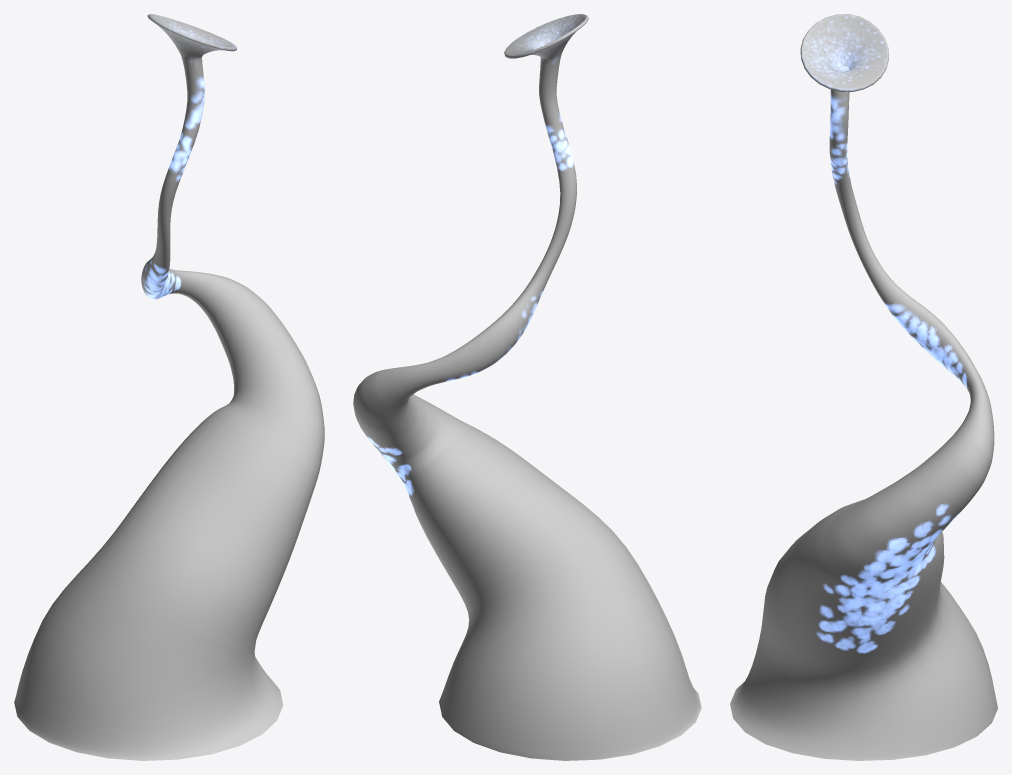
File: SM_Mushroom_00.fbx
3 views of the same model, side by side, from view 1: azimuth 30°, elevation 25°; view 2: azimuth 150°, elevation 25°; view 3: azimuth 270°, elevation 25° (orthographic). The views are drawn at different scales.
Parts seen in each view (by area): view 1: SM_Mushroom_00; view 2: SM_Mushroom_00; view 3: SM_Mushroom_00.
Part boxes in pixels (x1,y1,x2,y2): SM_Mushroom_00: (14,14,324,760); SM_Mushroom_00: (353,14,701,760); SM_Mushroom_00: (730,14,997,760).
Size of the model in its own units: 224 by 175 by 498.
